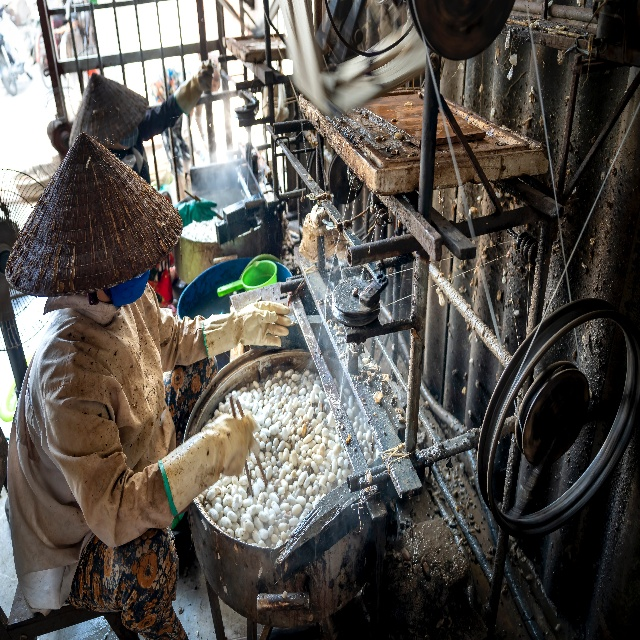Guantes: (159, 412, 260, 517), (203, 300, 292, 361), (173, 58, 217, 116), (177, 197, 217, 228)
Mascara: (103, 269, 150, 308), (119, 126, 138, 147)
